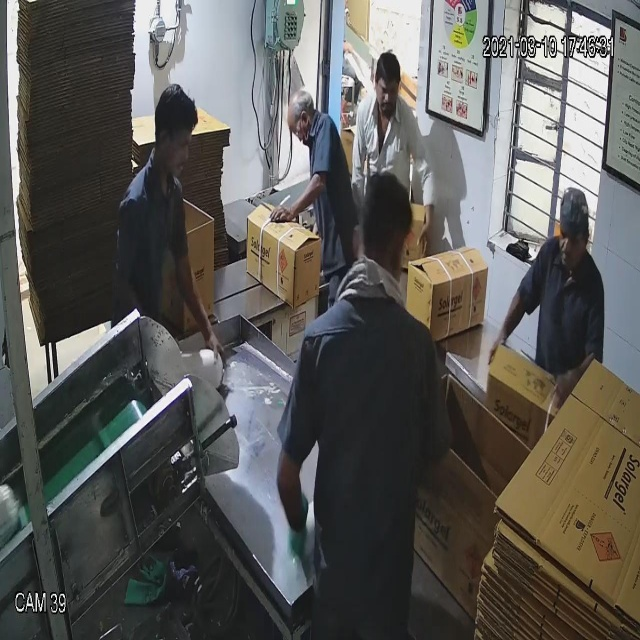Sin_guantes: (165, 226, 228, 360), (267, 164, 333, 239), (407, 131, 442, 262), (486, 278, 533, 373)
